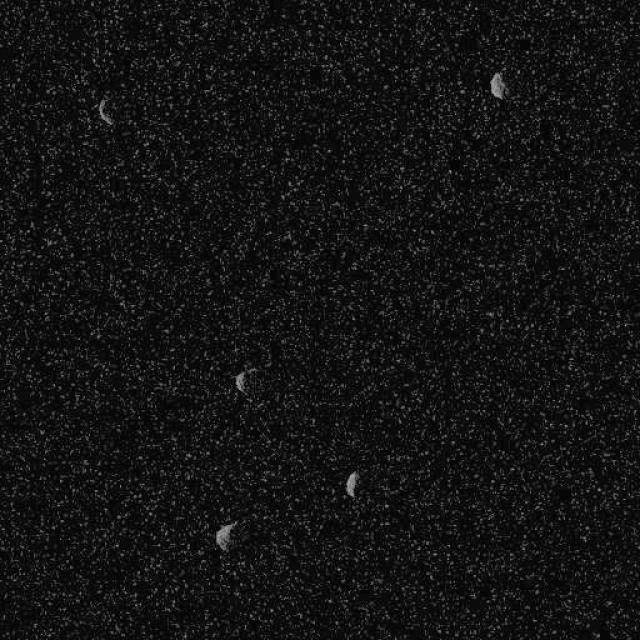D2: (214, 520, 236, 552), (96, 95, 115, 126), (489, 71, 506, 100), (344, 468, 360, 498), (234, 368, 248, 392)
